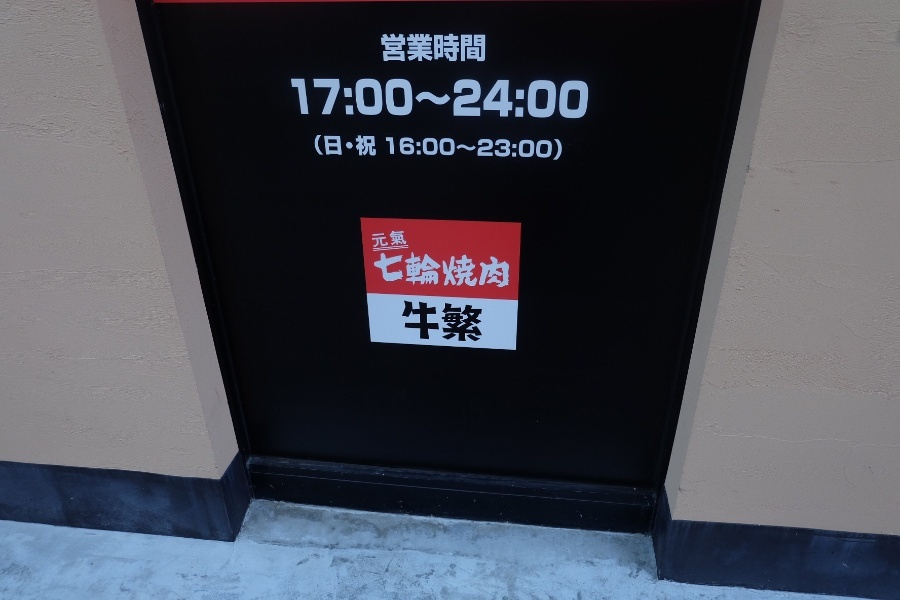text: (289, 76, 304, 120), (305, 76, 320, 120), (321, 76, 336, 120), (337, 76, 352, 120), (353, 76, 368, 120), (369, 76, 384, 120), (385, 76, 400, 120), (401, 76, 416, 120), (417, 76, 432, 120), (433, 76, 448, 120), (449, 76, 464, 120), (465, 76, 480, 120), (481, 76, 496, 120), (497, 76, 512, 120), (513, 76, 528, 120), (529, 76, 544, 120), (545, 76, 560, 120), (561, 76, 576, 120), (417, 301, 432, 343), (433, 301, 448, 343), (449, 301, 464, 343), (465, 301, 480, 343), (577, 76, 591, 120), (402, 301, 416, 343), (385, 253, 400, 289), (401, 253, 416, 289), (417, 253, 432, 289), (433, 253, 448, 289), (449, 253, 464, 289), (465, 253, 480, 289), (481, 253, 496, 289), (385, 32, 400, 65), (401, 32, 416, 65), (417, 32, 432, 65), (433, 32, 448, 65), (449, 32, 464, 65), (465, 32, 480, 65), (371, 253, 384, 289), (321, 133, 336, 163), (337, 133, 352, 163), (353, 133, 368, 163), (369, 133, 384, 163), (385, 133, 400, 163), (401, 133, 416, 163), (417, 133, 432, 163), (433, 133, 448, 163), (449, 133, 464, 163), (465, 133, 480, 163), (481, 133, 496, 163), (497, 133, 512, 163), (513, 133, 528, 163), (529, 133, 544, 163), (545, 133, 560, 163), (497, 253, 509, 289), (385, 231, 400, 248), (561, 133, 569, 163), (371, 231, 384, 248), (481, 32, 487, 65), (315, 133, 320, 163), (401, 231, 408, 248), (381, 32, 384, 65), (481, 301, 482, 343)
